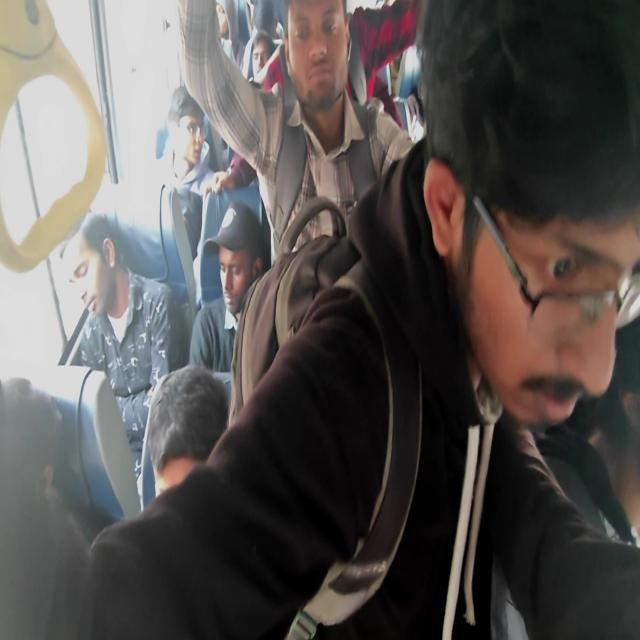person: (431, 20, 612, 411), (141, 372, 238, 534), (29, 214, 119, 329), (597, 324, 640, 538), (282, 4, 352, 126), (0, 407, 69, 529), (162, 88, 208, 182), (220, 218, 257, 334), (248, 45, 284, 102), (203, 0, 235, 49), (251, 4, 283, 37)
